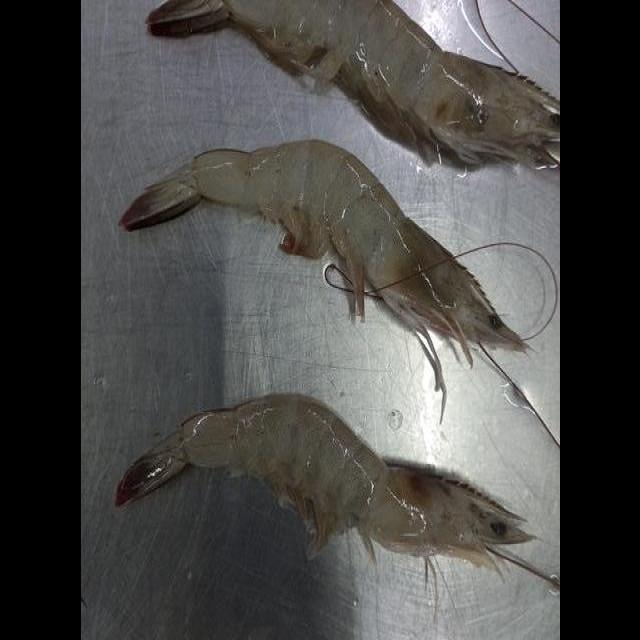shrimp: (121, 140, 526, 405), (117, 395, 559, 588), (147, 0, 560, 168)
